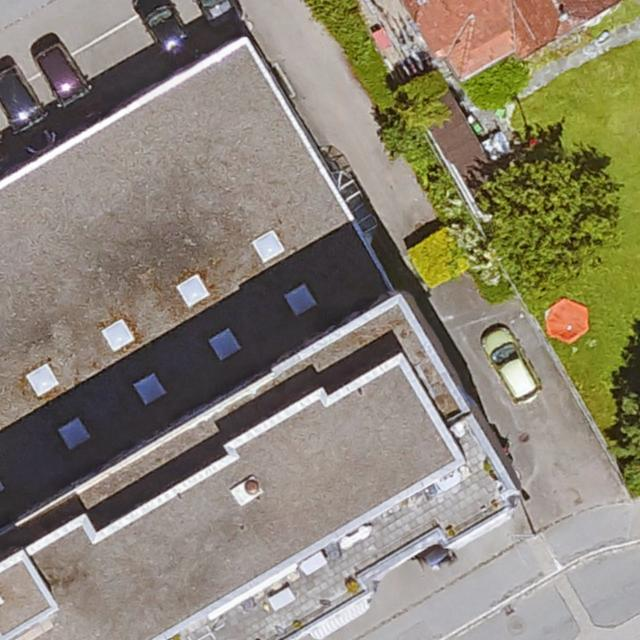tree: (478, 142, 617, 286), (612, 354, 640, 492)
